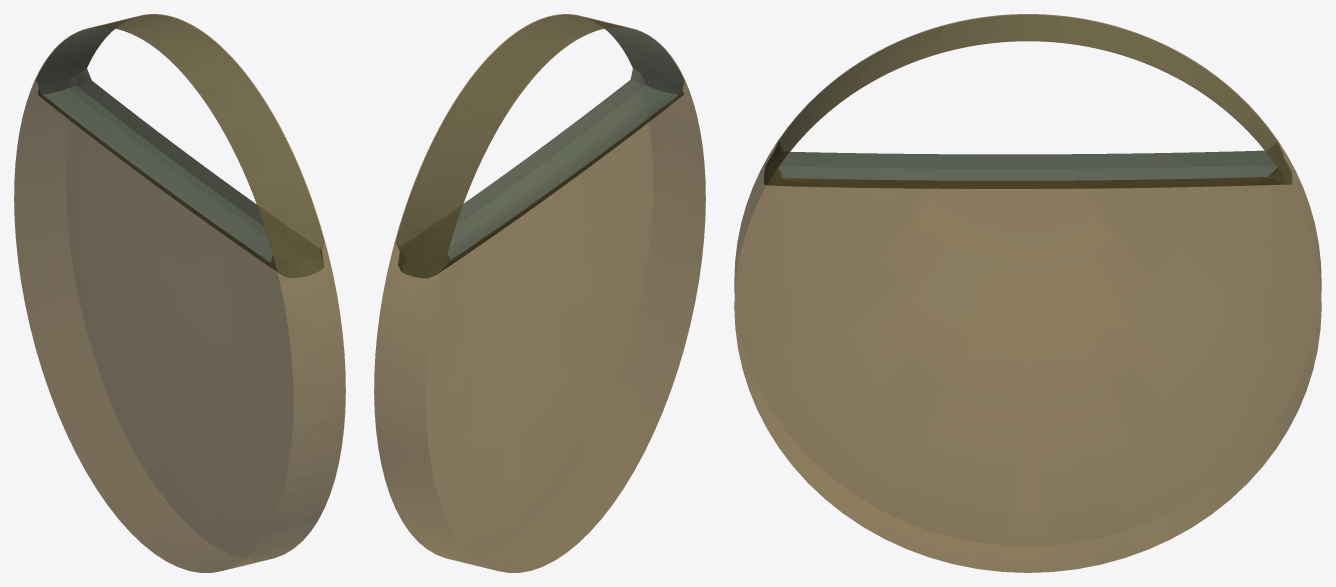
The model's file is capillary_liquid.fbx.
3 renders of one model, left to right at view 1: azimuth 30°, elevation 25°; view 2: azimuth 150°, elevation 25°; view 3: azimuth 270°, elevation 25°, orthographic. The views are drawn at different scales.
Parts seen in each view (by area): view 1: SM_capillary_liquid; view 2: SM_capillary_liquid; view 3: SM_capillary_liquid.
Part boxes in pixels (x1=…): SM_capillary_liquid: x1=14, y1=14, x2=345, y2=572; SM_capillary_liquid: x1=374, y1=14, x2=705, y2=572; SM_capillary_liquid: x1=734, y1=14, x2=1321, y2=572.
Bounding box in the file's own units: 0.022 × 0.204 × 0.204.
